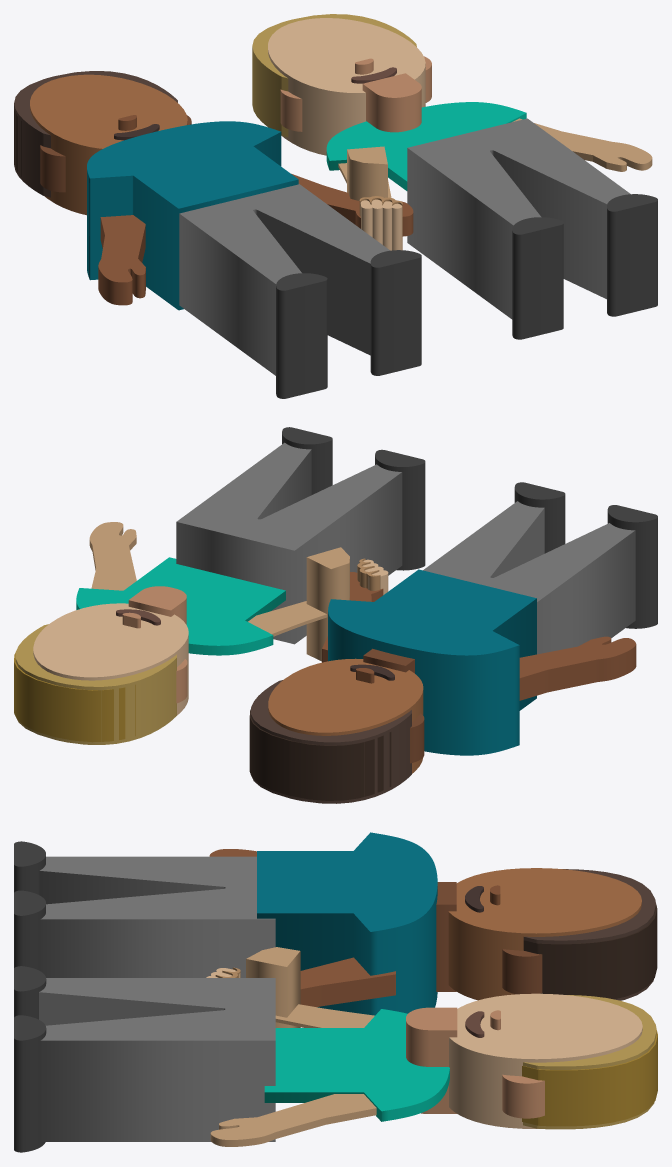
The model's file is emoji_u1f468_1f3fe_200d_1f91d_200d_1f468_1f3fc.glb.
The picture shows the model from 3 angles, top to bottom: view 1: azimuth 30°, elevation 25°; view 2: azimuth 150°, elevation 25°; view 3: azimuth 270°, elevation 25°; orthographic projection. The views are drawn at different scales.
Visible parts, largest first — view 1: emoji_u1f468_1f3fe_200d_1f91d_200d_1f468_1f3fc; view 2: emoji_u1f468_1f3fe_200d_1f91d_200d_1f468_1f3fc; view 3: emoji_u1f468_1f3fe_200d_1f91d_200d_1f468_1f3fc.
Boxes of the visible parts, x1,y1,x2,y2 form: emoji_u1f468_1f3fe_200d_1f91d_200d_1f468_1f3fc: (14, 14, 657, 398); emoji_u1f468_1f3fe_200d_1f91d_200d_1f468_1f3fc: (14, 427, 657, 803); emoji_u1f468_1f3fe_200d_1f91d_200d_1f468_1f3fc: (14, 832, 657, 1152).
Size of the model in its own units: 0.0346 by 0.0066 by 0.0334.
